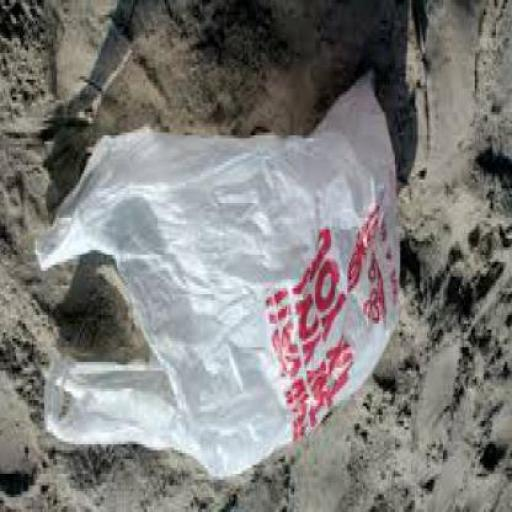plastic: (35, 71, 404, 482)
